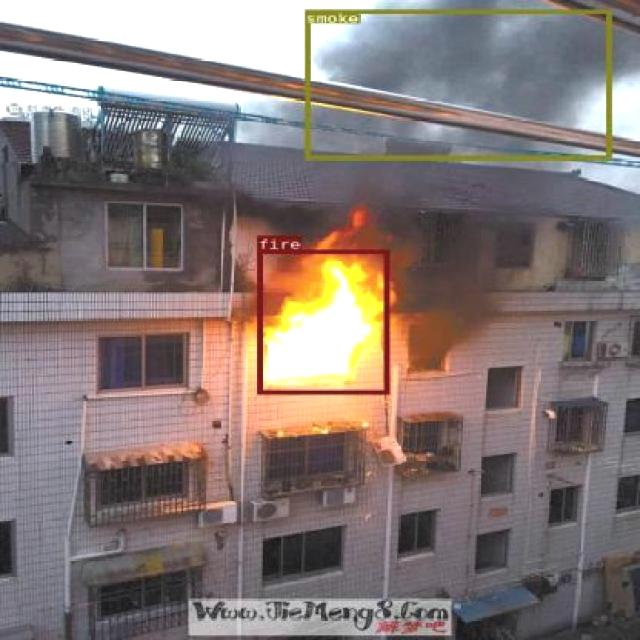fire: (256, 249, 389, 394)
smoke: (305, 10, 610, 158)
